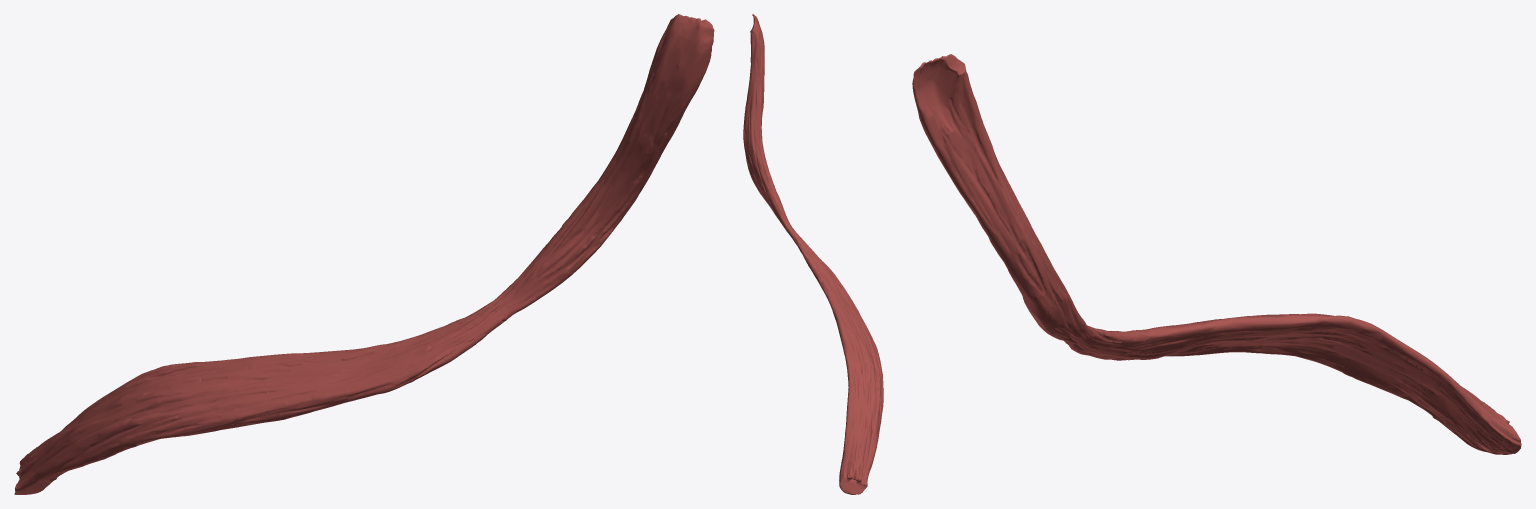
File: FMA13348.glb
3 renders of one model, left to right at view 1: azimuth 30°, elevation 25°; view 2: azimuth 150°, elevation 25°; view 3: azimuth 270°, elevation 25°, orthographic. The views are drawn at different scales.
Parts seen in each view (by area): view 1: FMA13348; view 2: FMA13348; view 3: FMA13348.
Boxes of the visible parts, x1=… form: FMA13348: x1=14, y1=14, x2=714, y2=494; FMA13348: x1=743, y1=14, x2=883, y2=494; FMA13348: x1=912, y1=54, x2=1521, y2=454.
Bounding box in the file's own units: 0.088 × 0.1032 × 0.0905.
